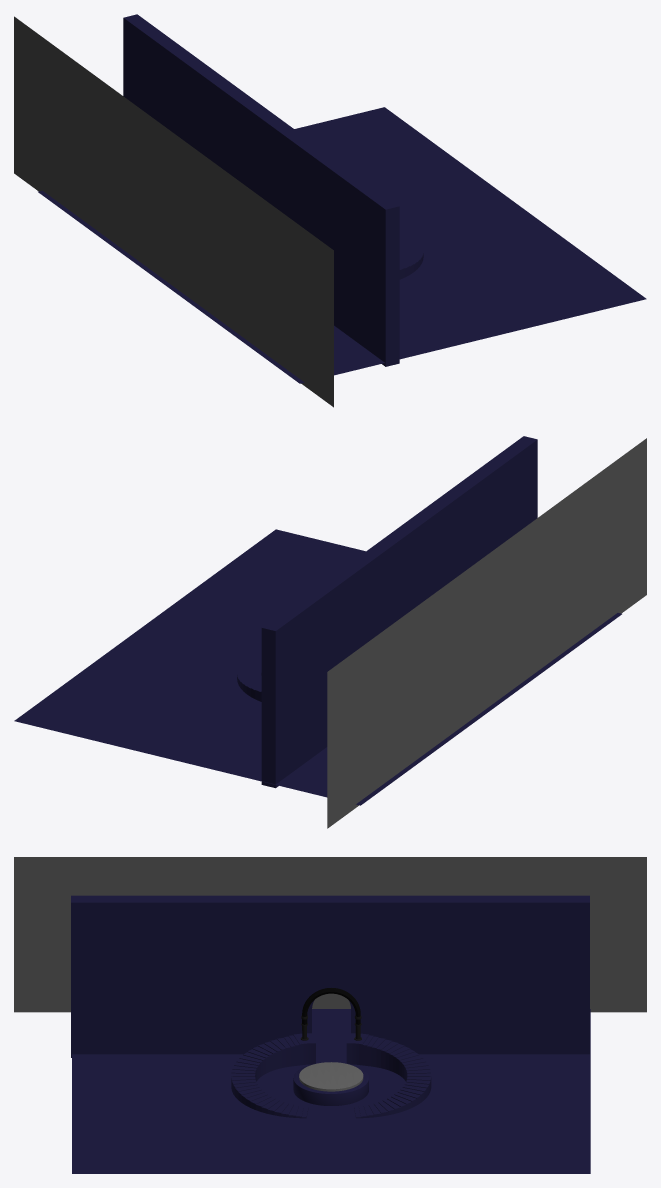
The model's file is purple_stage.glb.
3 views of the same model, one above another, from view 1: azimuth 30°, elevation 25°; view 2: azimuth 150°, elevation 25°; view 3: azimuth 270°, elevation 25° (orthographic).
Parts seen in each view (by area): view 1: STAGE; view 2: STAGE; view 3: STAGE.
Part boxes in pixels (box(x1,y1,x2,y2)): STAGE: box(14, 14, 646, 407); STAGE: box(14, 436, 646, 828); STAGE: box(14, 857, 646, 1173).
Bounding box in the file's own units: 32.02 × 13.86 × 51.14.
